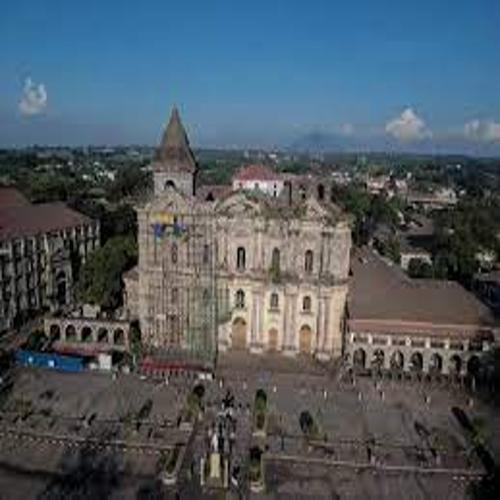Taal Basilica Church: (111, 103, 354, 372)
